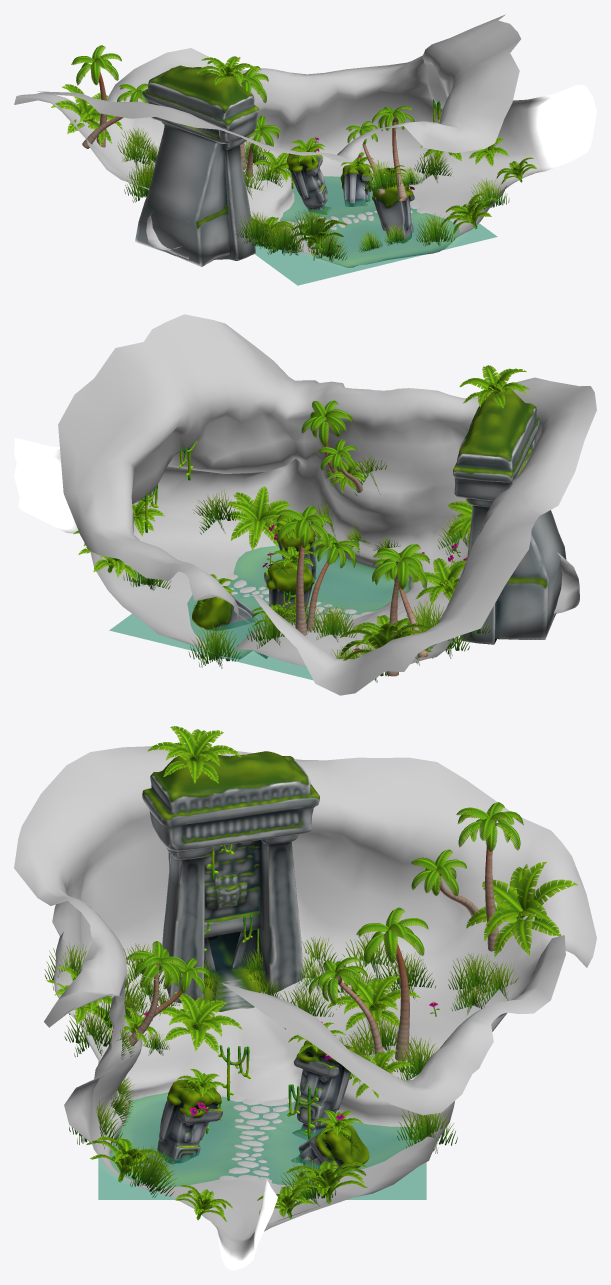
The picture shows the model from 3 angles, top to bottom: view 1: azimuth 30°, elevation 25°; view 2: azimuth 150°, elevation 25°; view 3: azimuth 270°, elevation 25°; orthographic projection. The views are drawn at different scales.
Parts seen in each view (by area): view 1: JungleEnvironment1_Ground_2, Temple_Model_51, JungleEnvironment1_Water2_5, Statue_Model2, Statue_Model_11, PalmA_Model4, Bush_Model13, Statue_Mat, PalmC_Model2, Bush_Model15, Bush_Model11, PalmC_Model_44 (+21 smaller); view 2: JungleEnvironment1_Ground_2, Temple_Model_51, JungleEnvironment1_Water2_5, PalmA_Model3_38, Bush_Model15, PalmA_Model4, Statue_Mat, Statue_Model2, PalmC_Model2, PalmC_Model_44, Bush_Model11, Grass_Tall_Model14 (+11 smaller); view 3: JungleEnvironment1_Ground_2, Temple_Model_51, JungleEnvironment1_Water2_5, Bush_Model13, Statue_Model_11, Statue_Model2, PalmA_Model3_38, PalmA_Model4, Bush_Model11, Bush_Model10, Statue_Mat, PalmC_Model2 (+18 smaller).
Part boxes in pixels (x1,y1,x2,y2): JungleEnvironment1_Ground_2: (14, 14, 596, 267); Temple_Model_51: (135, 65, 258, 266); JungleEnvironment1_Water2_5: (255, 176, 497, 285); Statue_Model2: (286, 146, 331, 214); Statue_Model_11: (372, 182, 414, 243); PalmA_Model4: (71, 45, 121, 147); Bush_Model13: (51, 84, 122, 146); Statue_Mat: (340, 164, 372, 206); PalmC_Model2: (372, 105, 414, 201); Bush_Model15: (441, 193, 499, 234); Bush_Model11: (197, 56, 256, 84); PalmC_Model_44: (246, 115, 280, 177); JungleEnvironment1_Ground_2: (14, 314, 596, 695); Temple_Model_51: (453, 389, 566, 644); JungleEnvironment1_Water2_5: (109, 545, 409, 679); PalmA_Model3_38: (276, 506, 332, 635); Bush_Model15: (226, 486, 291, 550); PalmA_Model4: (372, 544, 429, 676); Statue_Mat: (192, 591, 267, 658); Statue_Model2: (264, 561, 314, 620); PalmC_Model2: (301, 400, 352, 483); PalmC_Model_44: (306, 533, 359, 630); Bush_Model11: (459, 365, 529, 408); Grass_Tall_Model14: (188, 623, 240, 668); JungleEnvironment1_Ground_2: (14, 743, 596, 1270); Temple_Model_51: (142, 751, 319, 1011); JungleEnvironment1_Water2_5: (98, 1061, 426, 1199); Bush_Model13: (466, 862, 577, 956); Statue_Model_11: (157, 1079, 222, 1164); Statue_Model2: (292, 1040, 355, 1140); PalmA_Model3_38: (356, 907, 428, 1060); PalmA_Model4: (456, 802, 523, 951); Bush_Model11: (147, 726, 240, 783); Bush_Model10: (159, 992, 242, 1053); Statue_Mat: (291, 1123, 369, 1171); PalmC_Model2: (126, 941, 187, 1046).
Bounding box in the file's own units: 1937 × 942 × 1421.
